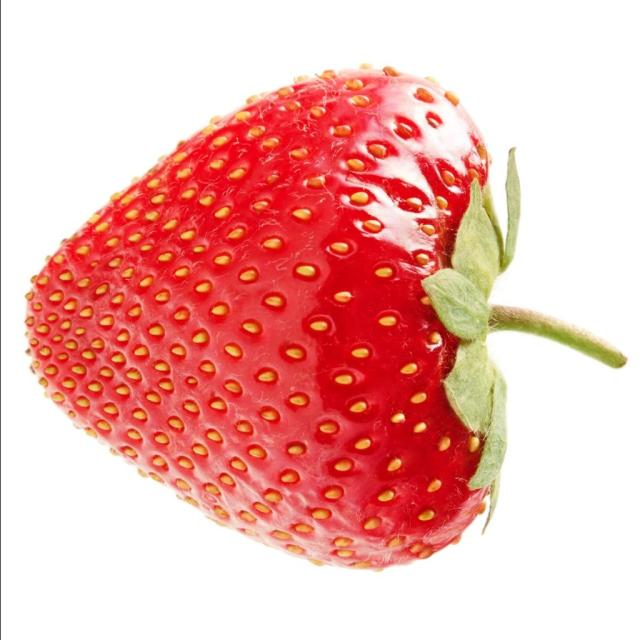strawberry: (11, 46, 610, 591)
